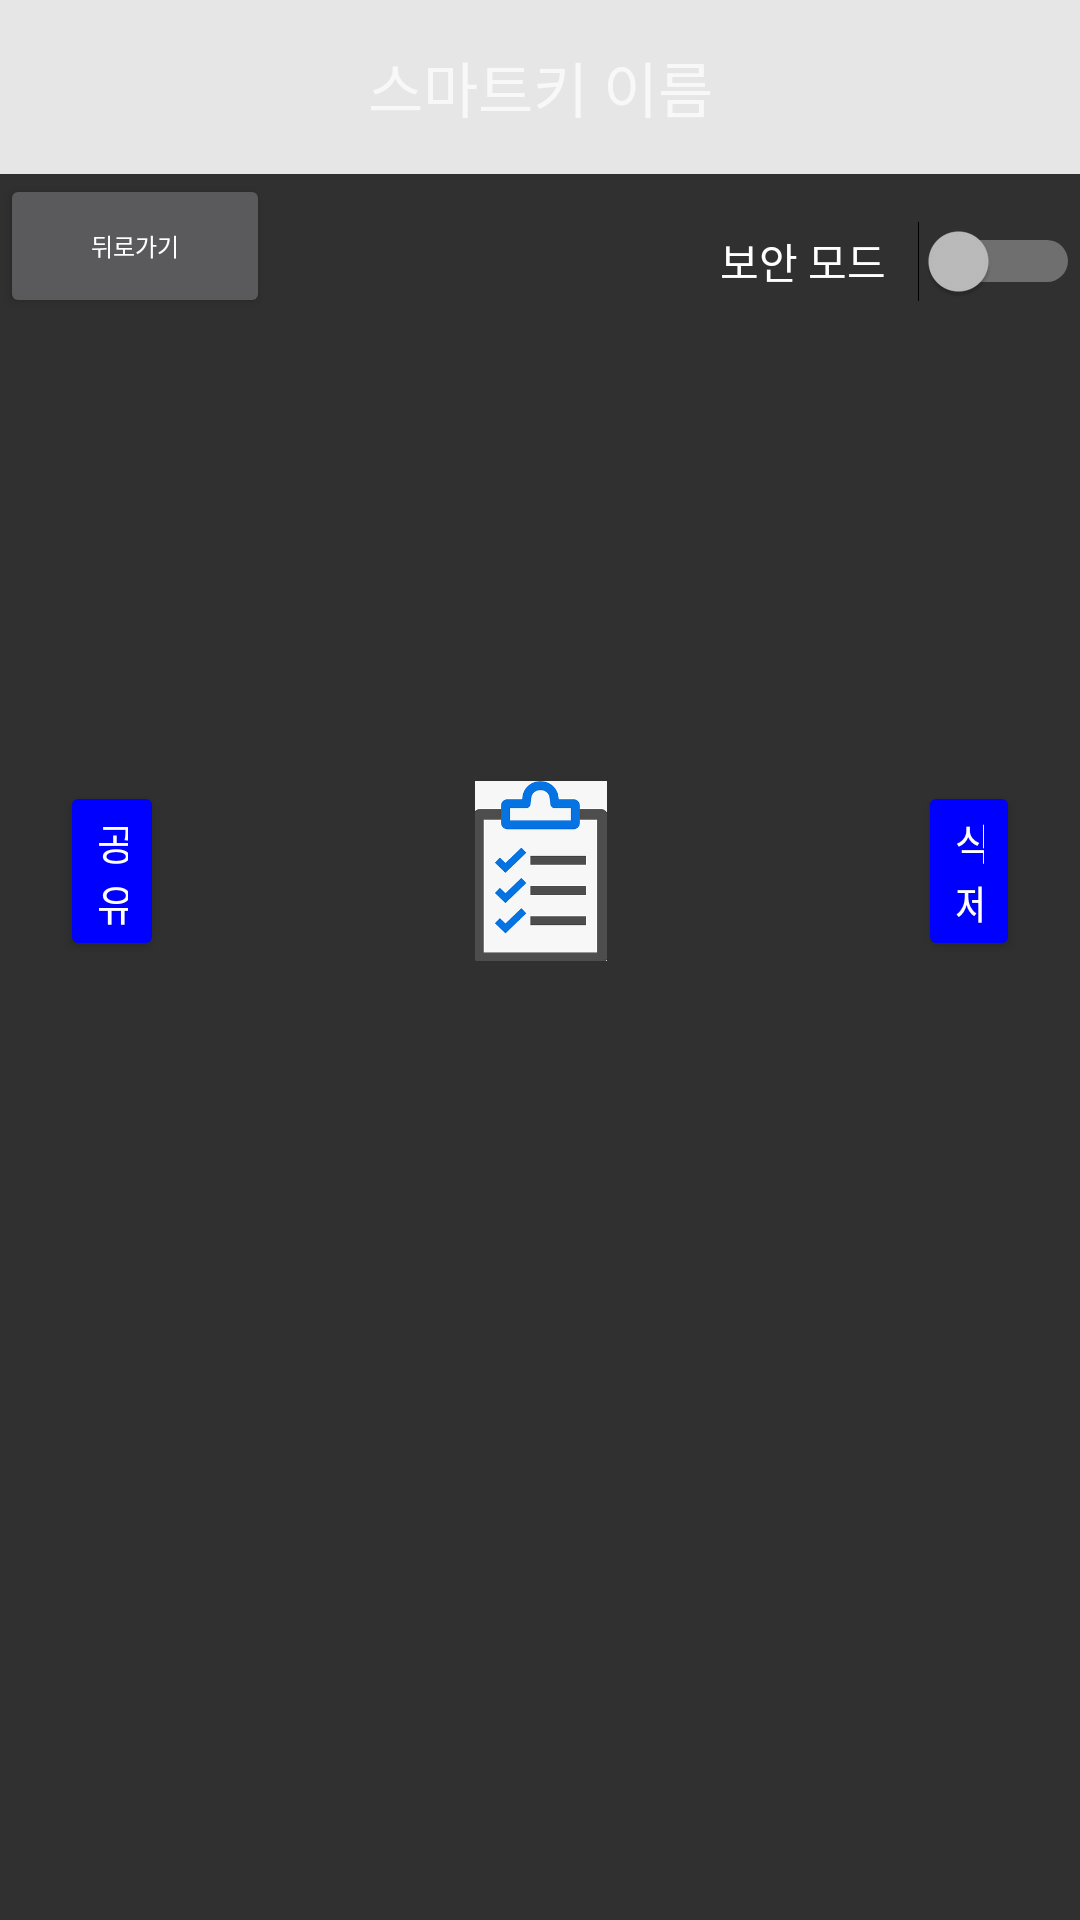

Icons on this 1080×1920 Android screen, each with the point to tap as [x,y]:
list: [541,871]
